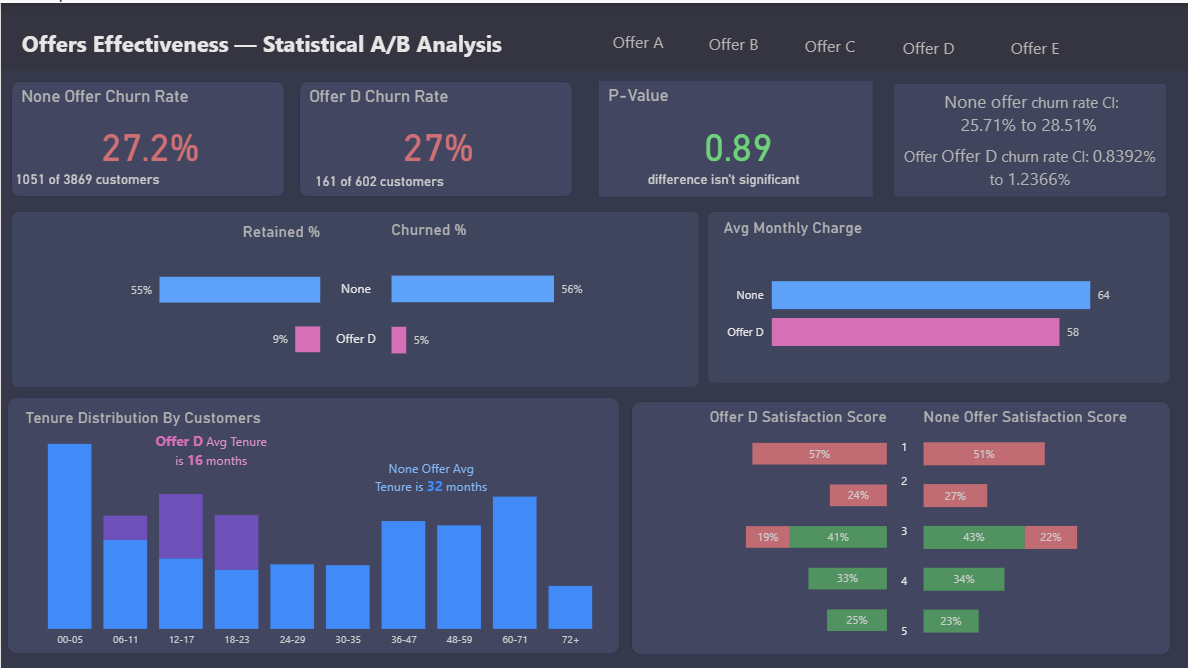

Layout of this report page (visuals, bound fields, positions):
{"tool":"powerbi","page":{"name":"Offer A/B test","canvas":[1280,720],"ordinal":4},"visuals":[{"type":"shape","box":[0,0,1280,72.9],"z":0,"group":"g3"},{"type":"group","id":"g1","title":"Group 8","box":[9.9,83,295.3,125],"z":0},{"type":"card","title":"None Offer Churn Rate","fields":{"Values":["_calculation.None Offer Churn Rate"]},"box":[10.2,83,295,125],"z":0,"group":"g1"},{"type":"card","title":"Offer E Churn Rate","fields":{"Values":["_calculation.Churn Rate"]},"box":[322.5,85,295,125],"z":0,"group":"g8"},{"type":"card","title":"P-Value","fields":{"Values":["Sum(offers A/B results.p-value)"]},"box":[645.1,85,295,125],"z":0,"group":"g7"},{"type":"shape","box":[962.4,87.3,295,123.5],"z":0,"group":"g10"},{"type":"group","id":"g2","title":"Churn vs Retained","box":[7,225.9,746.4,191],"z":0,"group":"g9"},{"type":"shape","box":[11,225.9,742.1,190.5],"z":0,"group":"g2"},{"type":"shape","box":[760,226.5,499.5,186],"z":0,"group":"g4"},{"type":"shape","box":[7.4,426.4,660.4,277.3],"z":0,"group":"g5"},{"type":"shape","box":[678.4,429.5,582,274.2],"z":0,"group":"g6"},{"type":"group","id":"g3","title":"Header","box":[0,0,1280,72.9],"z":1000},{"type":"actionButton","box":[1083.1,28.4,72,39.8],"z":1000,"group":"g3"},{"type":"enlightenDataStoryDDFB78A6143E42CFAFBC50CCF18D978D","fields":{"measure":["Min(offers A/B results.offer)","Sum(offers A/B results.low bound CI)","Sum(offers A/B results.high bound CI)"]},"box":[962.4,148,294.5,61.1],"z":1000,"group":"g10"},{"type":"card","fields":{"Values":["_calculation.Churn Subtitle"]},"box":[9.9,173.4,168.5,33],"z":1000,"group":"g1"},{"type":"card","fields":{"Values":["_calculation.P Value Result"]},"box":[645.6,175.6,269.2,34.7],"z":1000,"group":"g7"},{"type":"card","fields":{"Values":["_calculation.Churn Subtitle"]},"box":[327.7,178,168.5,33],"z":1000,"group":"g8"},{"type":"group","id":"g4","title":"Offer","box":[758,223.8,502.2,190],"z":1000,"group":"g9"},{"type":"clusteredBarChart","title":"Avg Monthly Charge","fields":{"Y":["_calculation.Monthly Charge"],"Category":["telco telco_customer_churn_services.Offer"]},"box":[758,223.8,502.2,190],"z":1000,"group":"g4"},{"type":"barChart","title":"Retained %","fields":{"Category":["telco telco_customer_churn_services.Offer"],"Y":["_calculation.Retained %"]},"box":[7,229,357.7,186],"z":1000,"group":"g2"},{"type":"columnChart","title":"Tenure Distribution By Customers","fields":{"Category":["telco telco_customer_churn_services.Tenure in Months Group"],"Y":["CountNonNull(telco telco_customer_churn.CustomerID)"],"Series":["telco telco_customer_churn_services.Offer"]},"box":[7.4,427.9,660.4,275.7],"z":1000,"group":"g5"},{"type":"textbox","box":[931.6,462.7,84.5,233],"z":1000,"group":"g6"},{"type":"actionButton","box":[967.6,28.4,72,39.8],"z":2000,"group":"g3"},{"type":"textbox","box":[961.6,88.8,302.7,74.7],"z":2000,"group":"g10"},{"type":"barChart","title":"Churned %","fields":{"Category":["telco telco_customer_churn_services.Offer"],"Y":["_calculation.Churn %"]},"box":[402.2,226.4,351.2,190.5],"z":2000,"group":"g2"},{"type":"group","id":"g5","title":"Tenure Part","box":[7.4,426.4,660.4,277.3],"z":2000,"group":"g9"},{"type":"barChart","title":"Offer E Satisfaction Score ","fields":{"Category":["telco telco_customer_churn_status.Satisfaction Score"],"Series":["telco vw_customer_status.Churn Label"],"Y":["_calculation.Satisfaction %"]},"box":[681.5,426.9,283.5,276.3],"z":2000,"group":"g6"},{"type":"enlightenDataStoryDDFB78A6143E42CFAFBC50CCF18D978D","fields":{"measure":["Min(offers A/B results.offer)","_calculation.Avg Tenure"]},"box":[133.3,494.8,137.9,69],"z":2000,"group":"g5"},{"type":"actionButton","box":[861.5,26.5,72,39.8],"z":3000,"group":"g3"},{"type":"textbox","box":[327.3,295.2,110.1,93.7],"z":3000,"group":"g2"},{"type":"group","id":"g6","title":"Staisfaction score","box":[678.4,426.9,582,278.4],"z":3000,"group":"g9"},{"type":"barChart","title":"None Offer Satisfaction Score","fields":{"Category":["telco telco_customer_churn_status.Satisfaction Score"],"Series":["telco vw_customer_status.Churn Label"],"Y":["_calculation.None Offer Satisfaction %"]},"box":[974.3,427.9,285.6,277.3],"z":3000,"group":"g6"},{"type":"enlightenDataStoryDDFB78A6143E42CFAFBC50CCF18D978D","fields":{"measure":["_calculation.Avg None Offer Tuner"]},"box":[379,518.5,137.9,66.8],"z":3000,"group":"g5"},{"type":"actionButton","box":[759.3,22.7,72,39.8],"z":4000,"group":"g3"},{"type":"group","id":"g7","title":"Group 5","box":[645.1,85,295,125.3],"z":4000,"group":"g9"},{"type":"actionButton","box":[655.1,20.8,72,39.8],"z":5000,"group":"g3"},{"type":"group","id":"g8","title":"Group 7","box":[322.5,85,295,126],"z":5000,"group":"g9"},{"type":"textbox","box":[10.2,21.6,575.1,51.2],"z":6000,"group":"g3"},{"type":"group","id":"g9","title":"offer E","box":[7,85,1257.3,620.2],"z":6000},{"type":"group","id":"g10","title":"Group 1","box":[961.6,87.3,302.7,123.5],"z":6000,"group":"g9"}]}

Visuals, with their boxes in screenshot pixels (x1, y1, x2, y2), scaled from the page's 1280x720 canvas onto the 1188x668 screenshot:
shape: x1=0 y1=0 x2=1187 y2=68
"Group 8" group: x1=9 y1=77 x2=283 y2=193
"None Offer Churn Rate" card: x1=9 y1=77 x2=283 y2=193
"Offer E Churn Rate" card: x1=299 y1=79 x2=573 y2=195
"P-Value" card: x1=599 y1=79 x2=873 y2=195
shape: x1=893 y1=81 x2=1167 y2=196
"Churn vs Retained" group: x1=6 y1=210 x2=699 y2=387
shape: x1=10 y1=210 x2=699 y2=386
shape: x1=705 y1=210 x2=1169 y2=383
shape: x1=7 y1=396 x2=620 y2=653
shape: x1=630 y1=398 x2=1170 y2=653
"Header" group: x1=0 y1=0 x2=1187 y2=68
actionButton: x1=1005 y1=26 x2=1072 y2=63
enlightenDataStoryDDFB78A6143E42CFAFBC50CCF18D978D - Min(offers A/B results.offer) x Sum(offers A/B results.low bound CI): x1=893 y1=137 x2=1167 y2=194
card - _calculation.Churn Subtitle: x1=9 y1=161 x2=166 y2=191
card - _calculation.P Value Result: x1=599 y1=163 x2=849 y2=195
card - _calculation.Churn Subtitle: x1=304 y1=165 x2=461 y2=196
"Offer" group: x1=704 y1=208 x2=1170 y2=384
"Avg Monthly Charge" clusteredBarChart: x1=704 y1=208 x2=1170 y2=384
"Retained %" barChart: x1=6 y1=212 x2=338 y2=385
"Tenure Distribution By Customers" columnChart: x1=7 y1=397 x2=620 y2=653
textbox: x1=865 y1=429 x2=943 y2=645
actionButton: x1=898 y1=26 x2=965 y2=63
textbox: x1=892 y1=82 x2=1173 y2=152
"Churned %" barChart: x1=373 y1=210 x2=699 y2=387
"Tenure Part" group: x1=7 y1=396 x2=620 y2=653
"Offer E Satisfaction Score " barChart: x1=633 y1=396 x2=896 y2=652
enlightenDataStoryDDFB78A6143E42CFAFBC50CCF18D978D - Min(offers A/B results.offer) x _calculation.Avg Tenure: x1=124 y1=459 x2=252 y2=523
actionButton: x1=800 y1=25 x2=866 y2=62
textbox: x1=304 y1=274 x2=406 y2=361
"Staisfaction score" group: x1=630 y1=396 x2=1170 y2=654
"None Offer Satisfaction Score" barChart: x1=904 y1=397 x2=1169 y2=654
enlightenDataStoryDDFB78A6143E42CFAFBC50CCF18D978D - _calculation.Avg None Offer Tuner: x1=352 y1=481 x2=480 y2=543
actionButton: x1=705 y1=21 x2=772 y2=58
"Group 5" group: x1=599 y1=79 x2=873 y2=195
actionButton: x1=608 y1=19 x2=675 y2=56
"Group 7" group: x1=299 y1=79 x2=573 y2=196
textbox: x1=9 y1=20 x2=543 y2=68
"offer E" group: x1=6 y1=79 x2=1173 y2=654
"Group 1" group: x1=892 y1=81 x2=1173 y2=196
